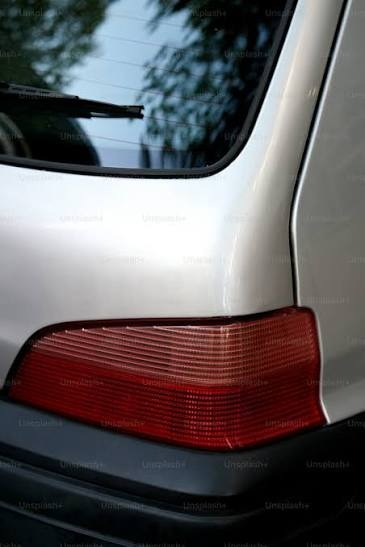car: (3, 2, 365, 527)
